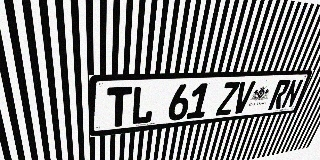1: (186, 83, 211, 119)
6: (167, 84, 192, 121)
L: (130, 85, 156, 125)
N: (280, 79, 304, 109)
R: (268, 79, 292, 110)
T: (107, 86, 132, 128)
V: (231, 81, 256, 114)
Z: (215, 82, 240, 116)
